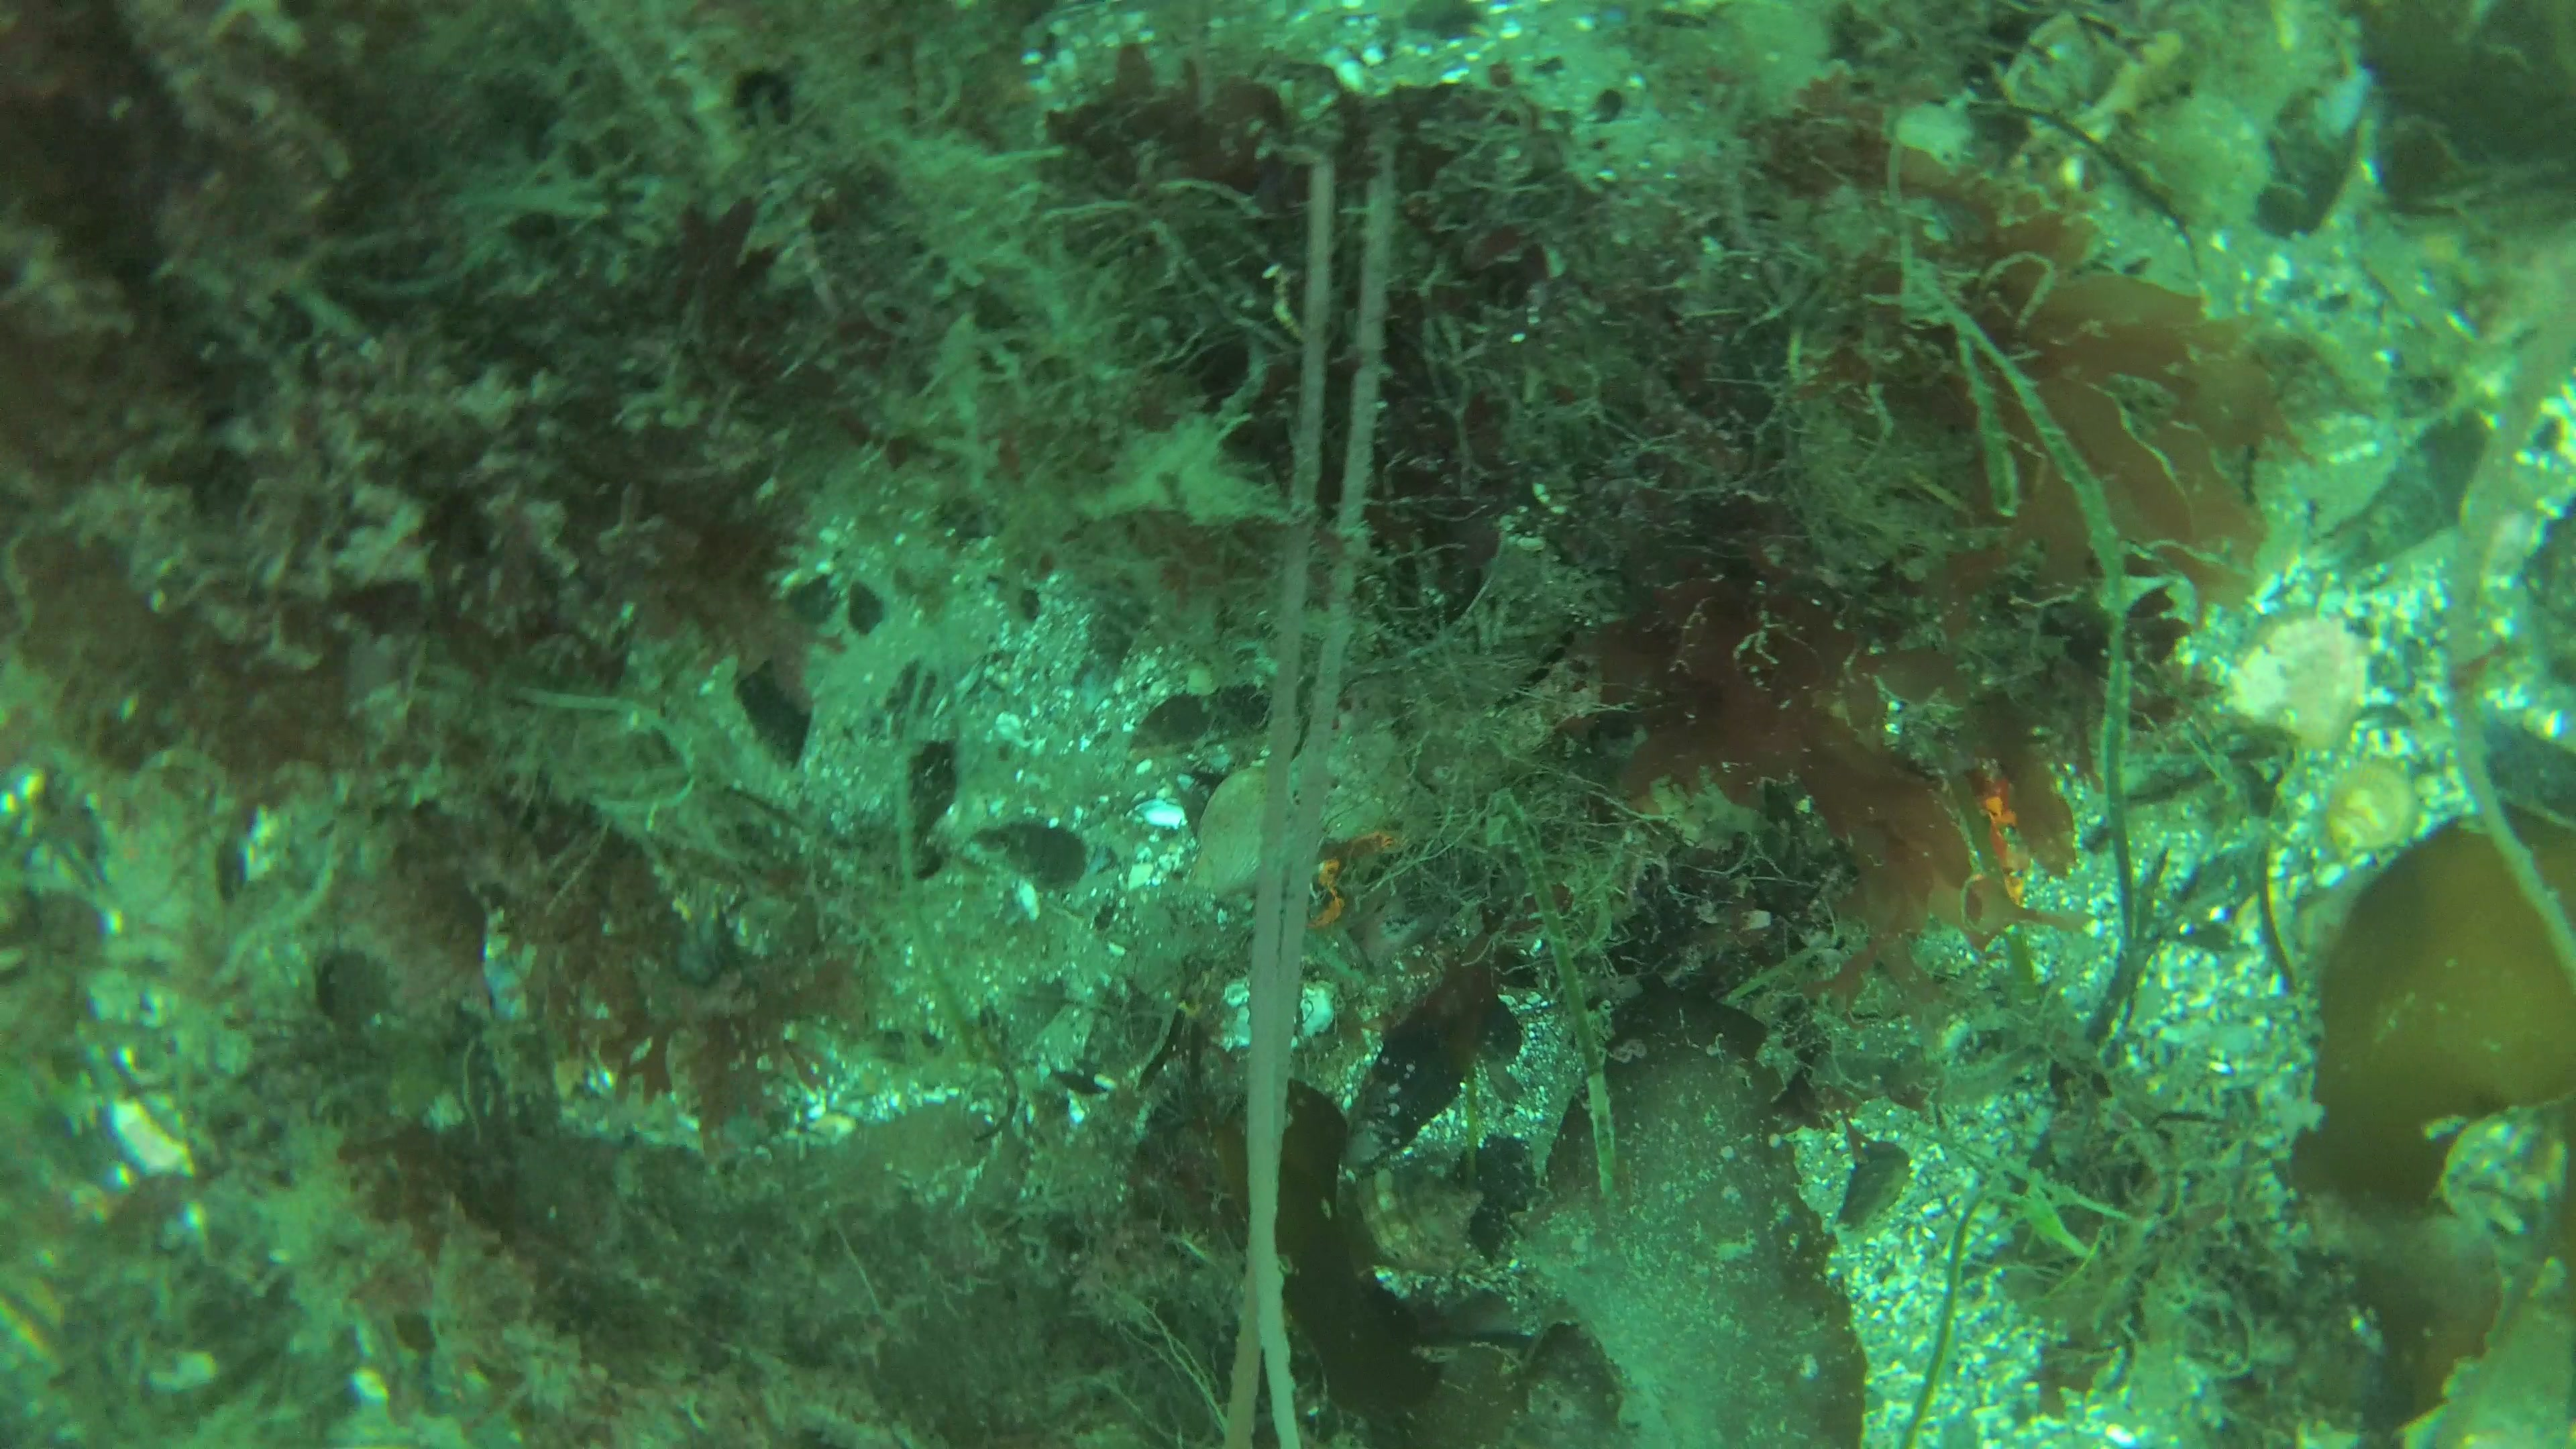scallop: (2215, 596, 2374, 759), (2302, 747, 2440, 870)
